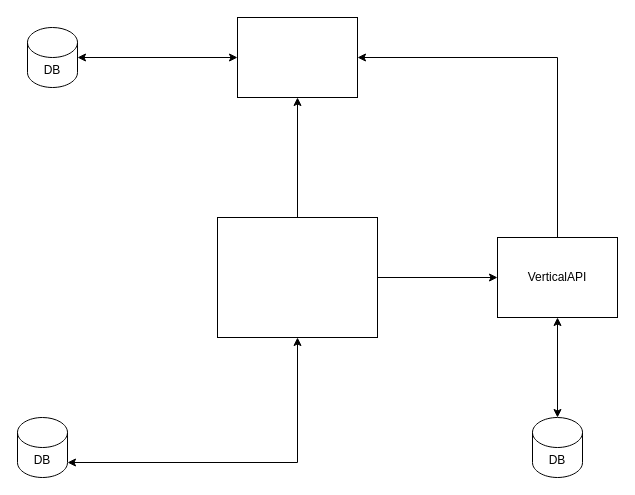
This 635x495 diagram has some shape labels left out. The centre of each missing label's shape, as x and y in pixels:
ChannelAPI: point (297, 277)
Configurator: point (297, 57)
